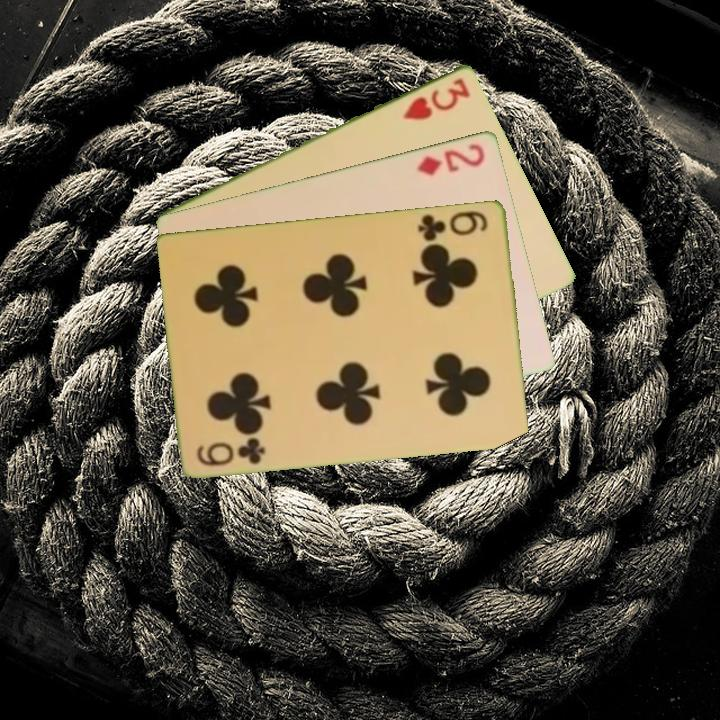2d: (413, 139, 488, 178)
3h: (399, 74, 473, 123)
6c: (414, 207, 491, 244), (194, 434, 268, 469)
